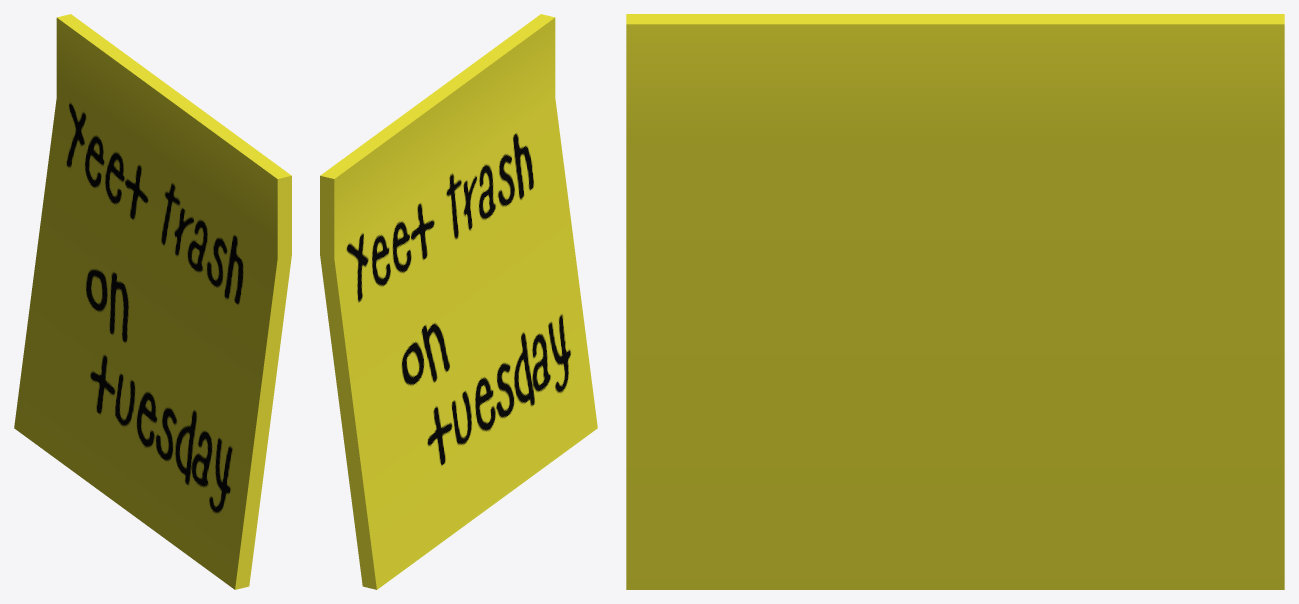
File: Prop_Postit_1_v01.fbx
The picture shows the model from 3 angles, left to right: view 1: azimuth 30°, elevation 25°; view 2: azimuth 150°, elevation 25°; view 3: azimuth 270°, elevation 25°; orthographic projection. The views are drawn at different scales.
Parts seen in each view (by area): view 1: Post_It_01; view 2: Post_It_01; view 3: Post_It_01.
Part boxes in pixels (x1=…): Post_It_01: x1=14, y1=14, x2=291, y2=589; Post_It_01: x1=320, y1=14, x2=597, y2=589; Post_It_01: x1=626, y1=14, x2=1284, y2=589.
Bounding box in the file's own units: 0.4651 × 3.13 × 3.13.
